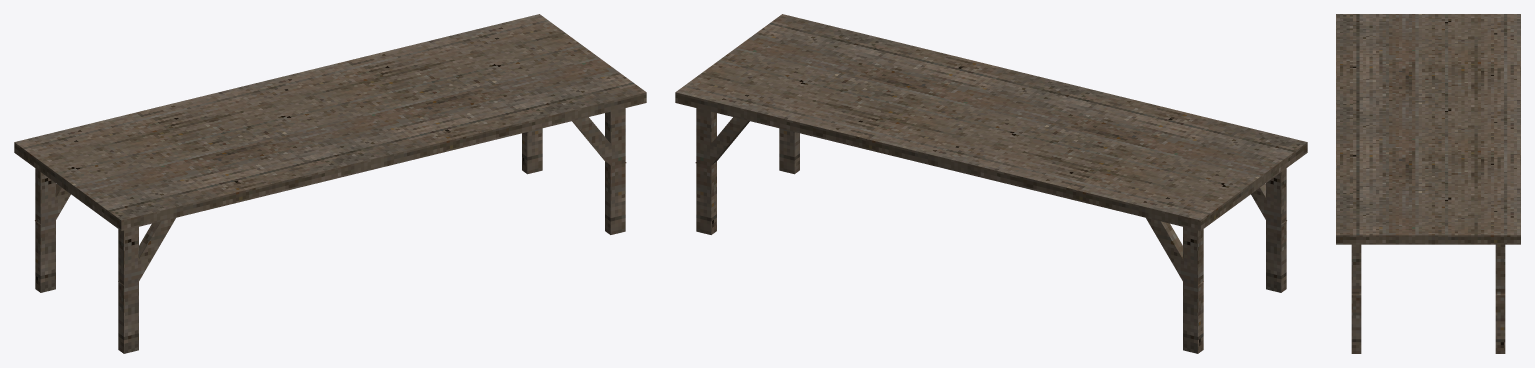
File: GD 3D Table 1 Wood.fbx
3 views of the same model, side by side, from view 1: azimuth 30°, elevation 25°; view 2: azimuth 150°, elevation 25°; view 3: azimuth 270°, elevation 25° (orthographic). The views are drawn at different scales.
Visible parts, largest first — view 1: Table 1 IVG 3D Armourer; view 2: Table 1 IVG 3D Armourer; view 3: Table 1 IVG 3D Armourer.
Part boxes in pixels (left/top/right/bottom): Table 1 IVG 3D Armourer: left=14, top=14, right=646, bottom=353; Table 1 IVG 3D Armourer: left=675, top=14, right=1307, bottom=353; Table 1 IVG 3D Armourer: left=1336, top=14, right=1520, bottom=353.
Size of the model in its own units: 344 by 89.54 by 122.
